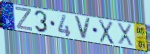3: (33, 10, 49, 34)
4: (57, 13, 72, 38)
V: (73, 15, 92, 41)
X: (116, 22, 135, 49), (98, 18, 115, 46)
Z: (14, 6, 34, 33)
